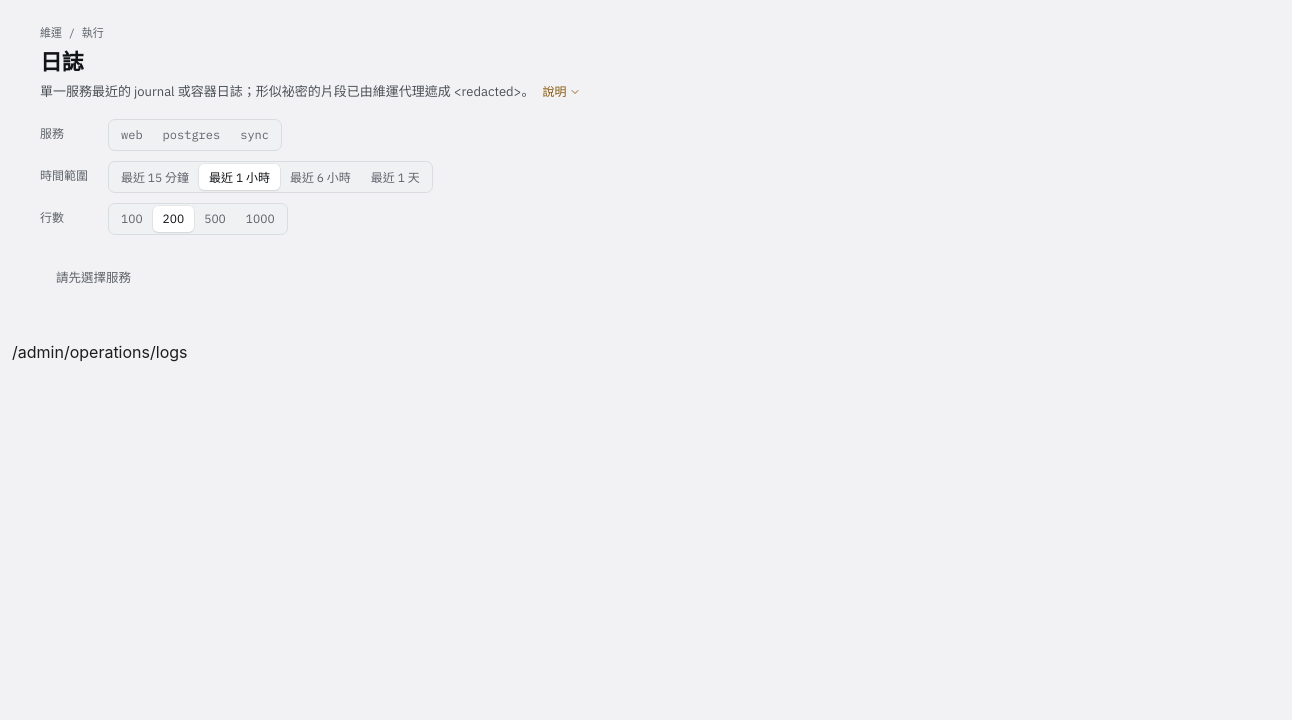
Scenario: 日誌：選服務才查；預設 1 小時、200 行；改時間範圍與行數會重查，截斷時有提示
The image size is (1292, 720).
Check: the text "請先選擇服務" is shown, box [56,269,131,285]
Click the button "web" at (132, 135), box [111,122,153,148]
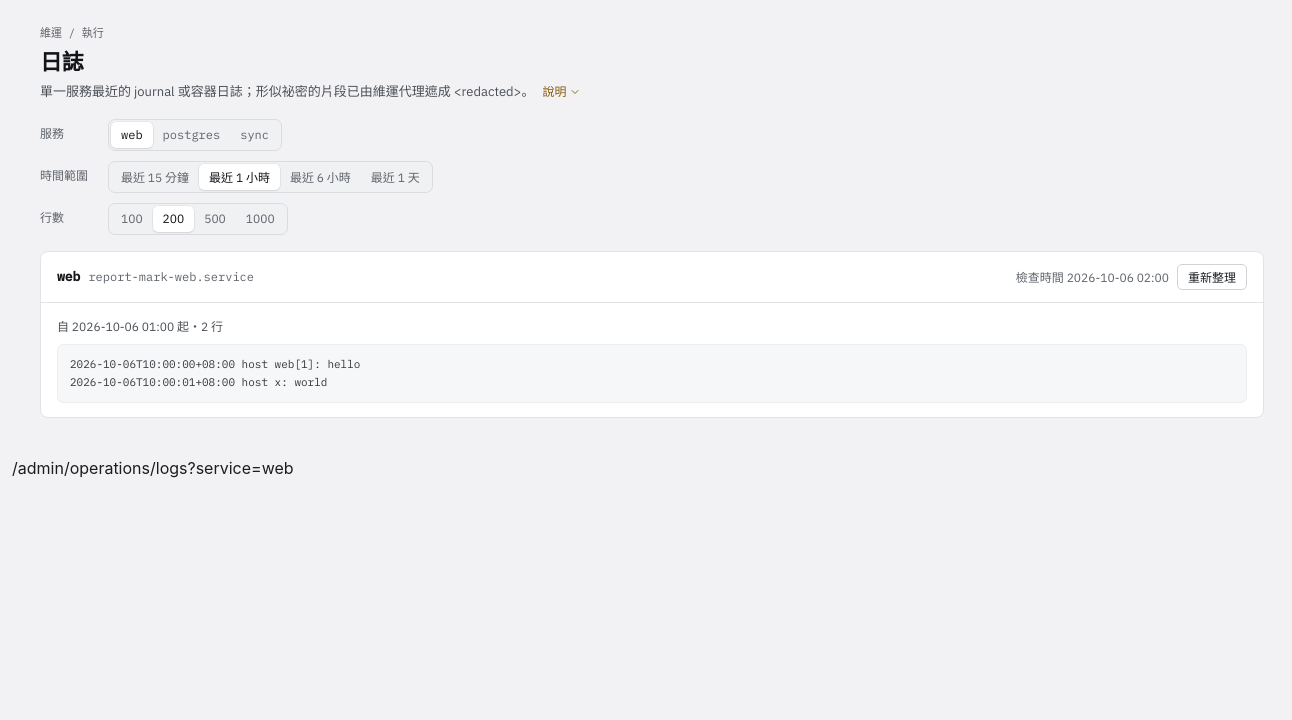
Check: the text named "web 的日誌" shows "host web[1]: hello", box [70,357,360,390]
Check: the text "自 2026-10-06 01:00 起・2 行" is shown, box [57,317,223,334]
Check: the text "report-mark-web.service" is shown, box [88,269,254,284]
Click the button "最近 15 分鐘" at (155, 177), box [111,164,199,190]
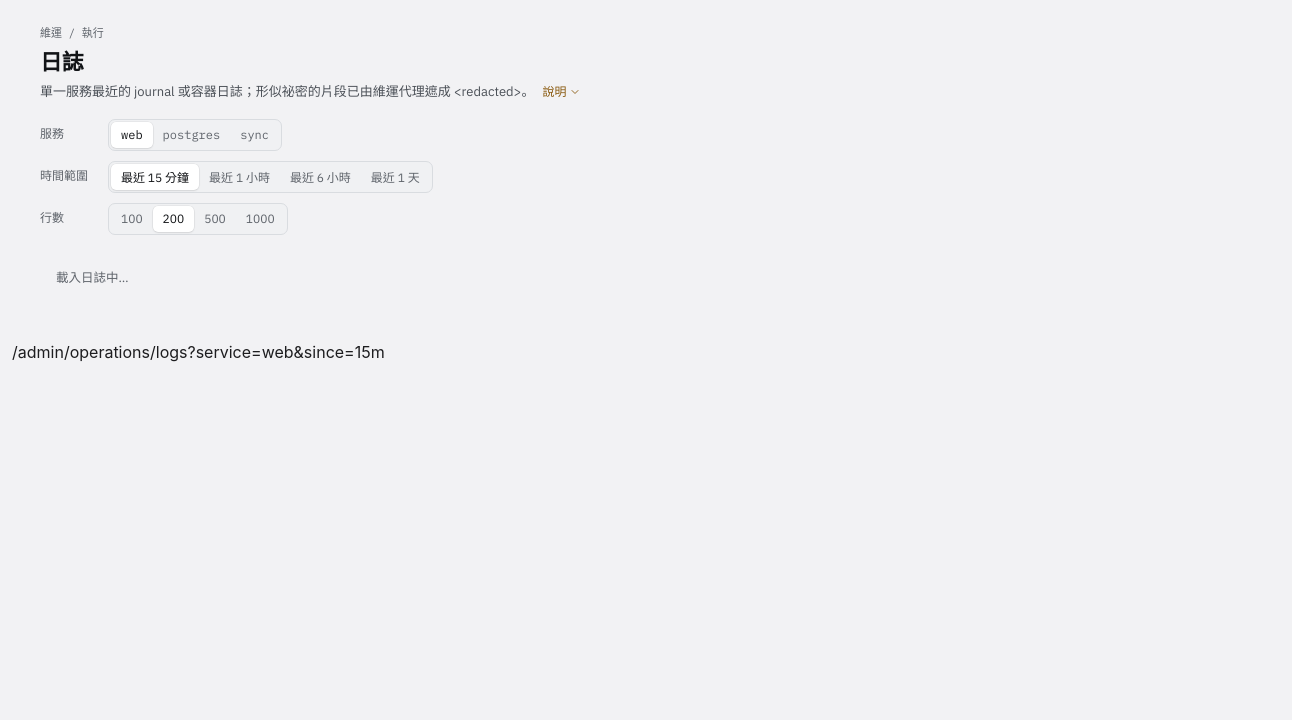
Click the button "1000" at (260, 219), box [236,206,285,232]
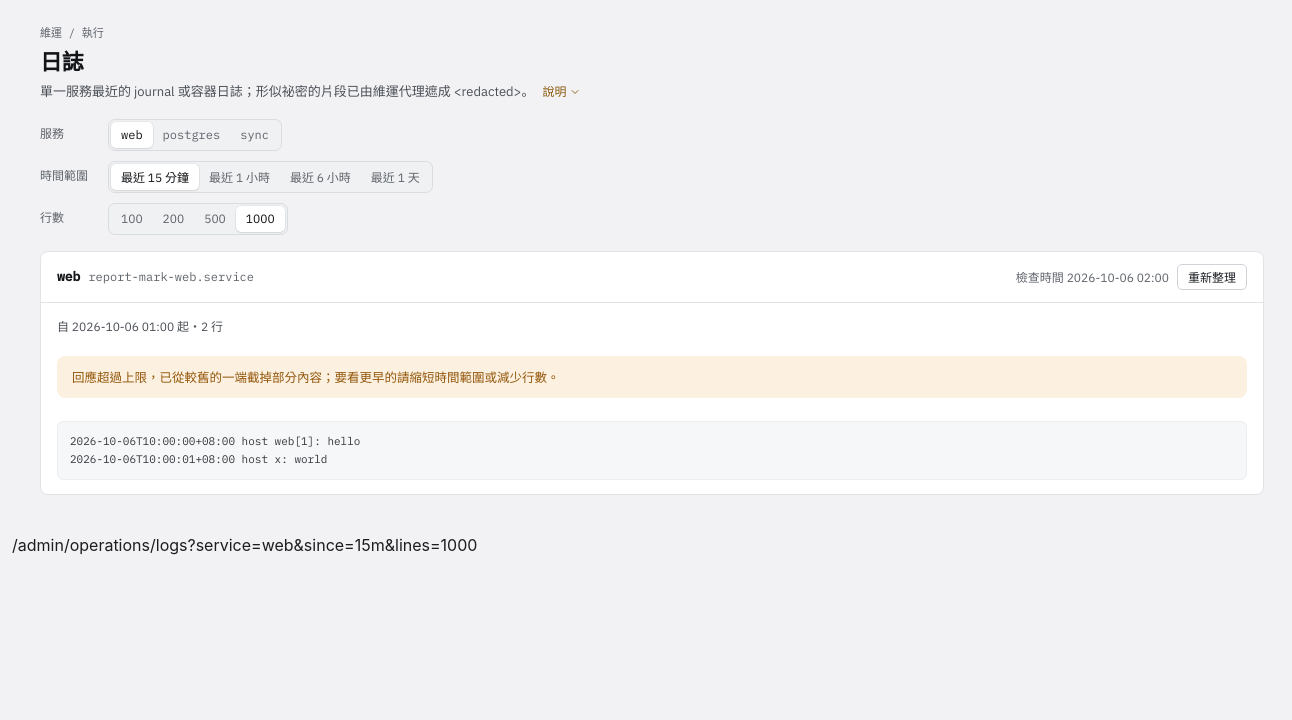
Check: the text "回應超過上限，已從較舊的一端截掉部分內容；要看更早的請縮短時間範圍或減少行數。" is shown, box [57,356,1247,398]
Check: the text with test id "loc" shows "service=web&since=15m&lines=1000", box [12,535,477,555]
